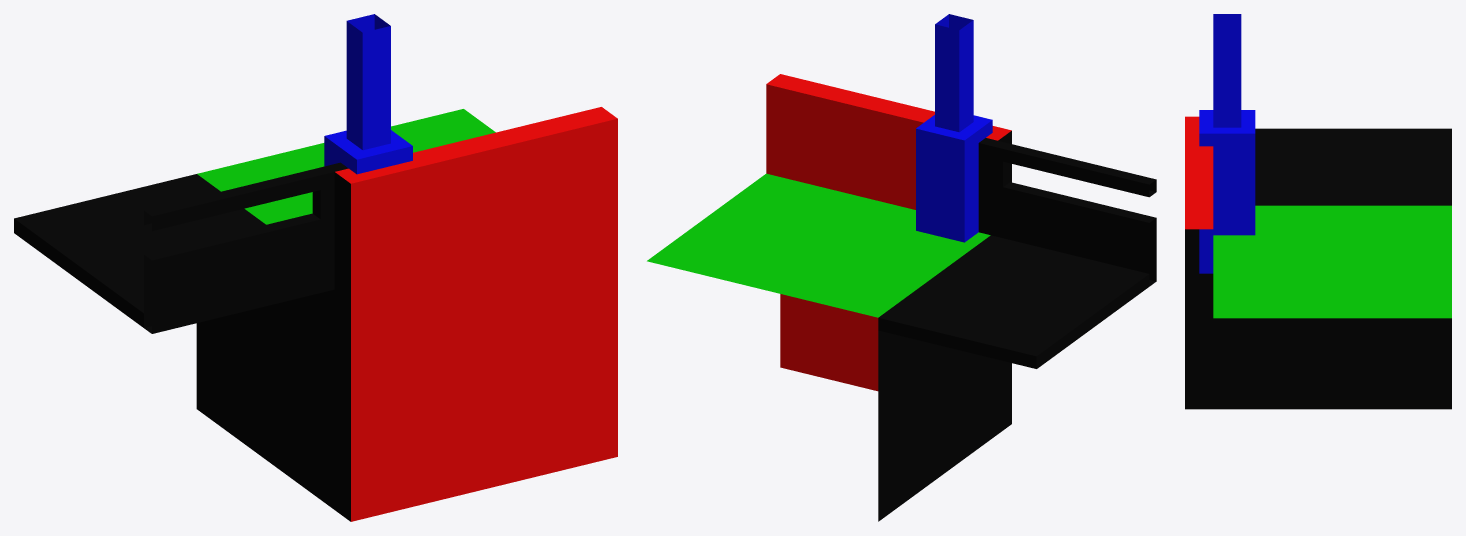
File: None_W_E_E_E_P_E_E_E_BigStrut.fbx
3 renders of one model, left to right at view 1: azimuth 30°, elevation 25°; view 2: azimuth 150°, elevation 25°; view 3: azimuth 270°, elevation 25°, orthographic. The views are drawn at different scales.
Visible parts, largest first — view 1: None_W_E_E_E_P_E_E_E_BigStrut; view 2: None_W_E_E_E_P_E_E_E_BigStrut; view 3: None_W_E_E_E_P_E_E_E_BigStrut.
Part boxes in pixels (bbox=[...]): None_W_E_E_E_P_E_E_E_BigStrut: bbox=[14, 14, 617, 521]; None_W_E_E_E_P_E_E_E_BigStrut: bbox=[647, 14, 1156, 521]; None_W_E_E_E_P_E_E_E_BigStrut: bbox=[1185, 14, 1451, 409].
Bounding box in the file's own units: 100 × 100 × 59.38.
